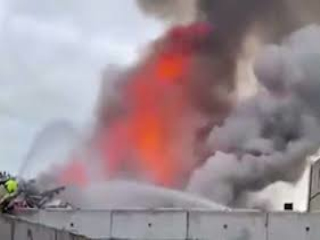smoke: (98, 10, 235, 188), (205, 44, 315, 203)
